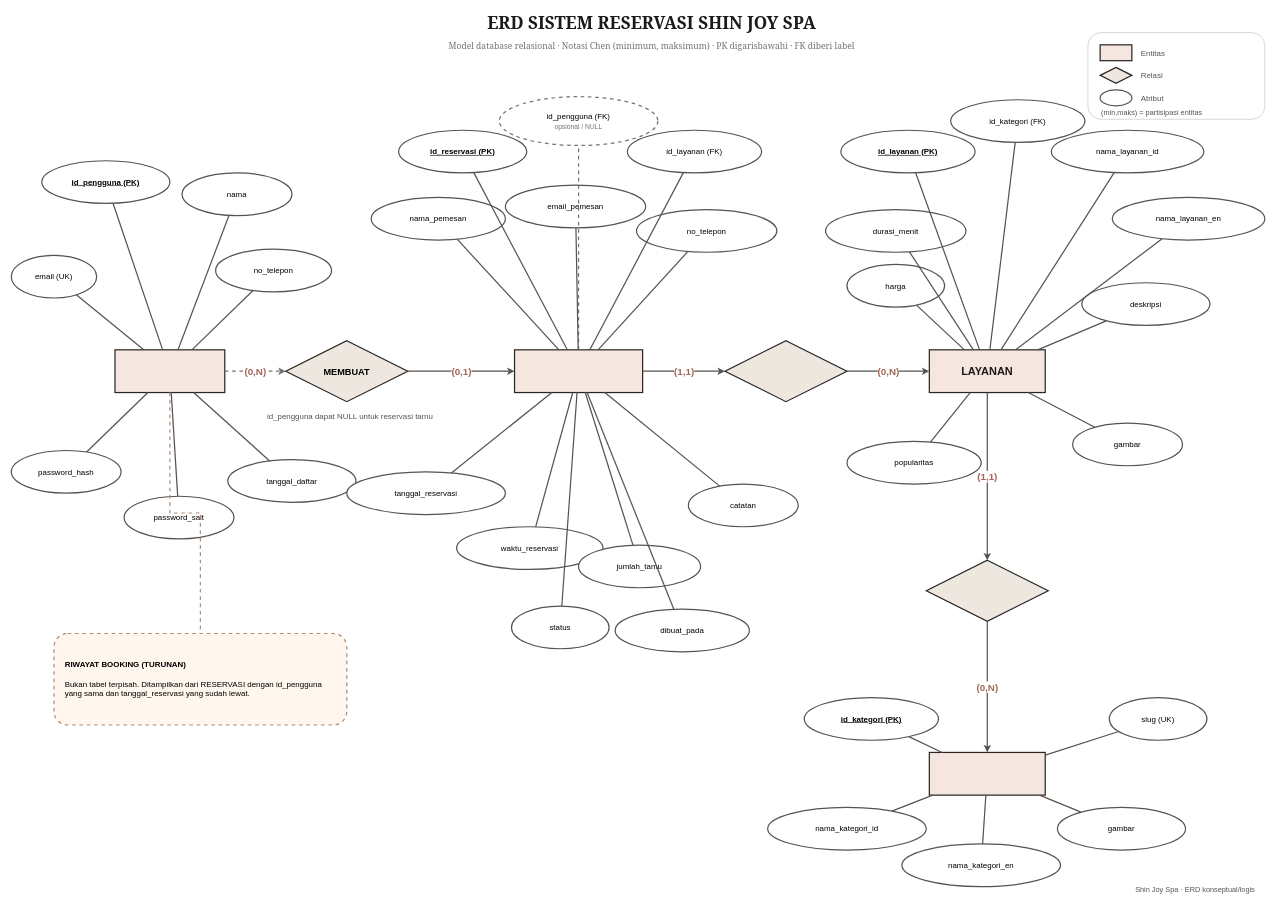
The diagram is 1276 pixels wide and 909 high, and some of its shapes have lost their labels. The centre of each missing label's shape, as x and y in pixels:
"KATEGORI" belongs at point 987,773.
"MEMILIH" belongs at point 785,371.
"PENGGUNA" belongs at point 169,371.
"RESERVASI" belongs at point 578,371.
"TERMASUK DALAM" belongs at point 987,590.
